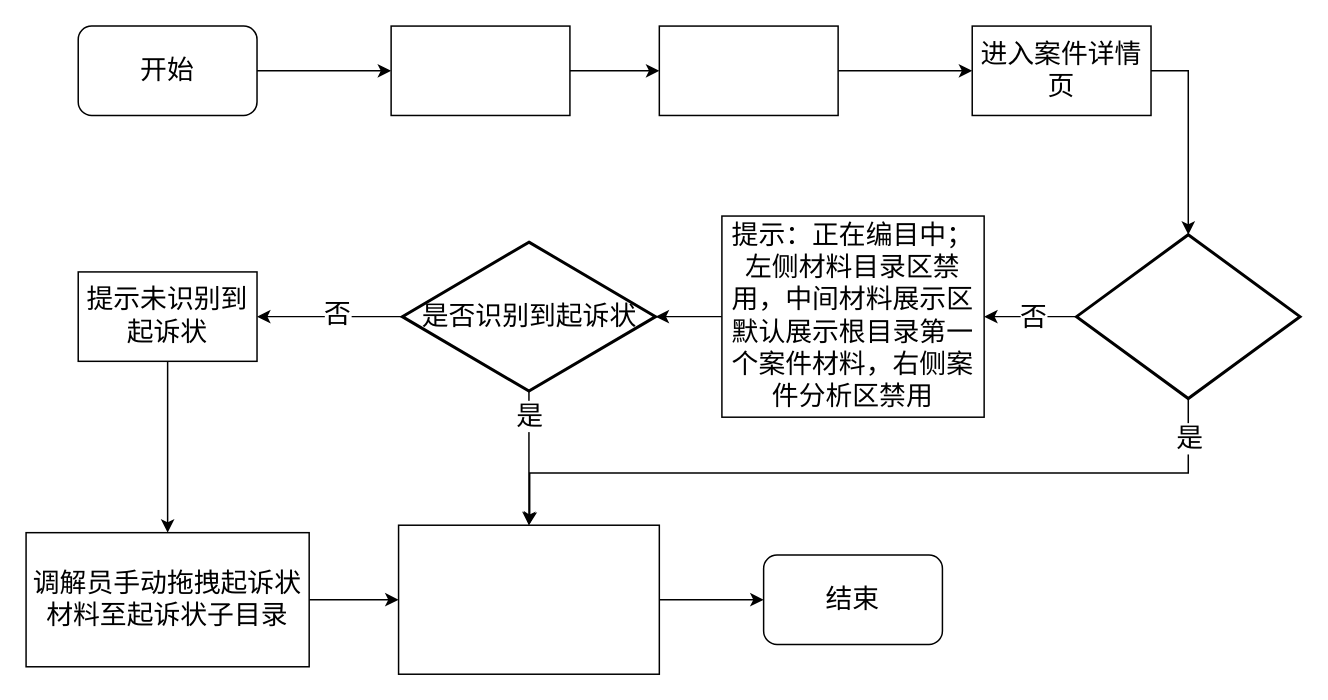
The diagram is 1328 pixels wide and 700 high, and some of its shapes have lost their labels. Here are the shapes that lost their labels. From the top down, the box of each, then its label:
(390, 25, 570, 115): 进入智能辅助 办案系统
(658, 25, 838, 115): 案件列表区选择具体案件
(1074, 232, 1301, 399): 判断是否完成 自动编目
(397, 524, 659, 674): 左侧材料目录区启用，中间材料展示区展示起诉状，右侧案件分析区启用
